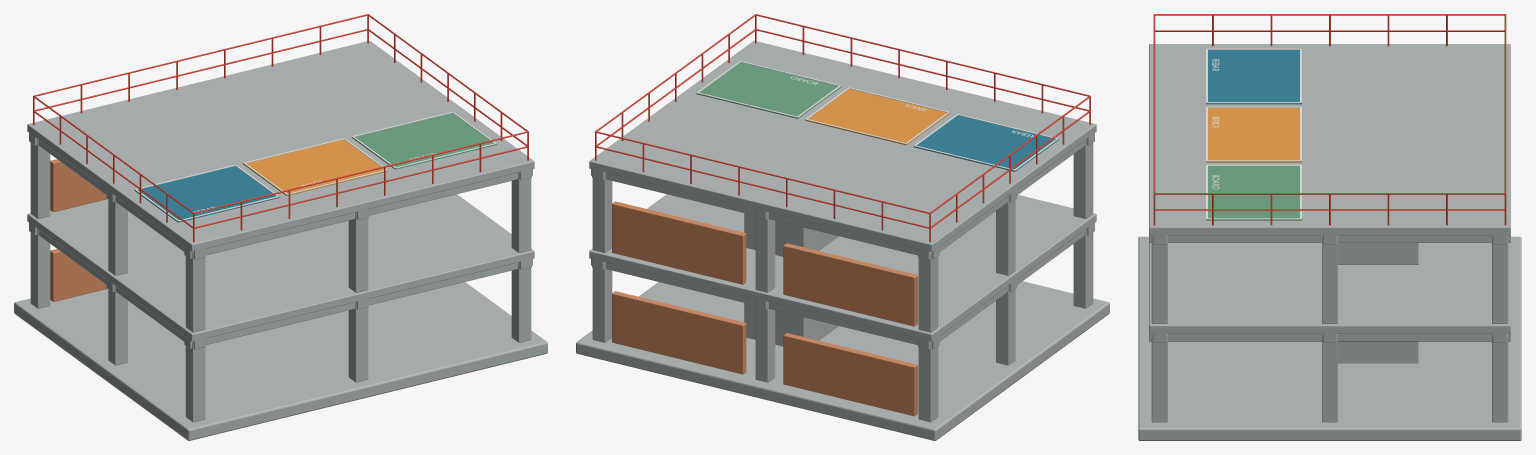
Rendered from construction-building.glb.
3 renders of one model, left to right at view 1: azimuth 30°, elevation 25°; view 2: azimuth 150°, elevation 25°; view 3: azimuth 270°, elevation 25°, orthographic. The views are drawn at different scales.
Visible parts, largest first — view 1: FloorSlab.001, BuildingFoundation, FloorSlab, PadSurface.002, PadSurface.001, PadSurface, ConcreteBeam, ConcreteBeam.006, MasonryInfill.002, MasonryInfill, ConcreteColumn.009, ConcreteColumn (+14 smaller); view 2: FloorSlab.001, BuildingFoundation, FloorSlab, MasonryInfill.002, MasonryInfill, MasonryInfill.001, MasonryInfill.003, PadSurface.002, PadSurface.001, PadSurface, ConcreteBeam.002, ConcreteBeam.008 (+18 smaller); view 3: FloorSlab.001, BuildingFoundation, FloorSlab, PadSurface.001, PadSurface, PadSurface.002, ConcreteBeam.005, ConcreteBeam.011, ServiceCore, ServiceCore.001, ConcreteColumn.006, ConcreteColumn.008 (+10 smaller).
Boxes of the visible parts, <box> form: FloorSlab.001: <box>27,40,534,251</box>; BuildingFoundation: <box>14,282,547,440</box>; FloorSlab: <box>27,194,534,341</box>; PadSurface.002: <box>351,113,496,169</box>; PadSurface.001: <box>243,139,388,195</box>; PadSurface: <box>134,166,279,222</box>; ConcreteBeam: <box>184,259,532,348</box>; ConcreteBeam.006: <box>184,169,532,259</box>; MasonryInfill.002: <box>50,159,107,212</box>; MasonryInfill: <box>50,249,107,301</box>; ConcreteColumn.009: <box>185,252,205,332</box>; ConcreteColumn: <box>185,342,205,422</box>; FloorSlab.001: <box>589,40,1096,251</box>; BuildingFoundation: <box>576,281,1109,440</box>; FloorSlab: <box>589,194,1096,341</box>; MasonryInfill.002: <box>783,243,917,326</box>; MasonryInfill: <box>783,333,917,416</box>; MasonryInfill.001: <box>612,291,746,374</box>; MasonryInfill.003: <box>612,201,746,284</box>; PadSurface.002: <box>696,62,841,118</box>; PadSurface.001: <box>805,89,950,145</box>; PadSurface: <box>913,115,1058,171</box>; ConcreteBeam.002: <box>591,259,939,348</box>; ConcreteBeam.008: <box>591,169,939,259</box>; FloorSlab.001: <box>1149,44,1510,235</box>; BuildingFoundation: <box>1138,236,1521,440</box>; FloorSlab: <box>1149,243,1510,333</box>; PadSurface.001: <box>1206,108,1301,162</box>; PadSurface: <box>1206,50,1301,104</box>; PadSurface.002: <box>1206,166,1301,220</box>; ConcreteBeam.005: <box>1149,333,1510,341</box>; ConcreteBeam.011: <box>1149,235,1510,242</box>; ServiceCore: <box>1338,341,1418,363</box>; ServiceCore.001: <box>1338,243,1418,264</box>; ConcreteColumn.006: <box>1151,334,1167,422</box>; ConcreteColumn.008: <box>1492,334,1508,422</box>.
Size of the model in its own units: 12.6 by 7.37 by 10.6.
